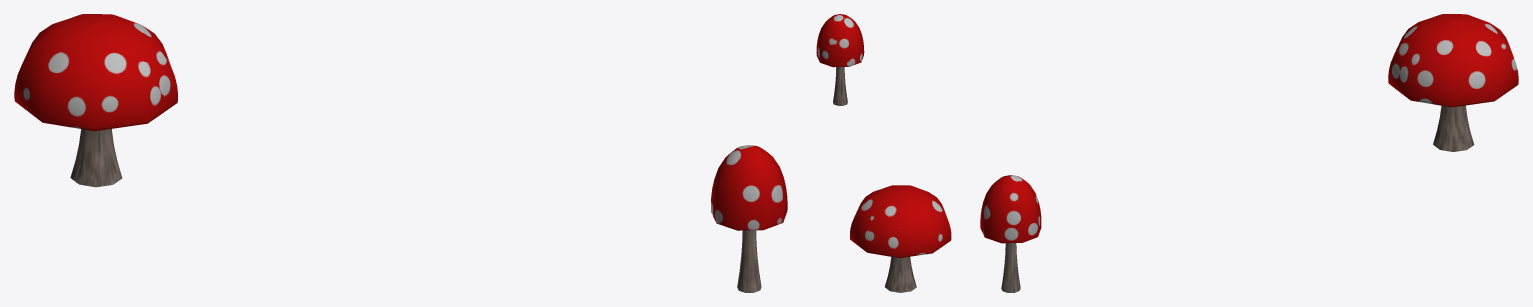
The model's file is Mushrooms_1.fbx.
3 views of the same model, side by side, from view 1: azimuth 30°, elevation 25°; view 2: azimuth 150°, elevation 25°; view 3: azimuth 270°, elevation 25° (orthographic). The views are drawn at different scales.
Visible parts, largest first — view 1: Mushrooms_1; view 2: Mushrooms_1; view 3: Mushrooms_1.
Part boxes in pixels (x1,y1,x2,y2): Mushrooms_1: [14, 14, 787, 292]; Mushrooms_1: [816, 14, 951, 292]; Mushrooms_1: [980, 14, 1518, 292].
Size of the model in its own units: 35.58 by 11.02 by 43.82.
